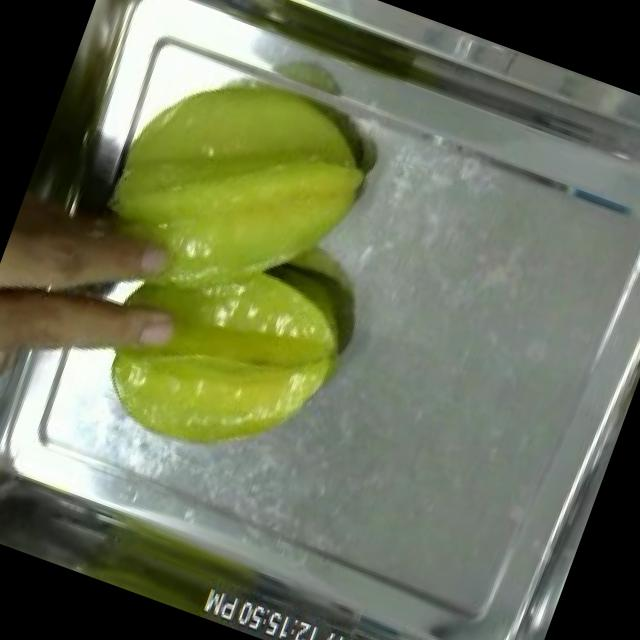fruit: (80, 26, 405, 327), (73, 212, 376, 502)
